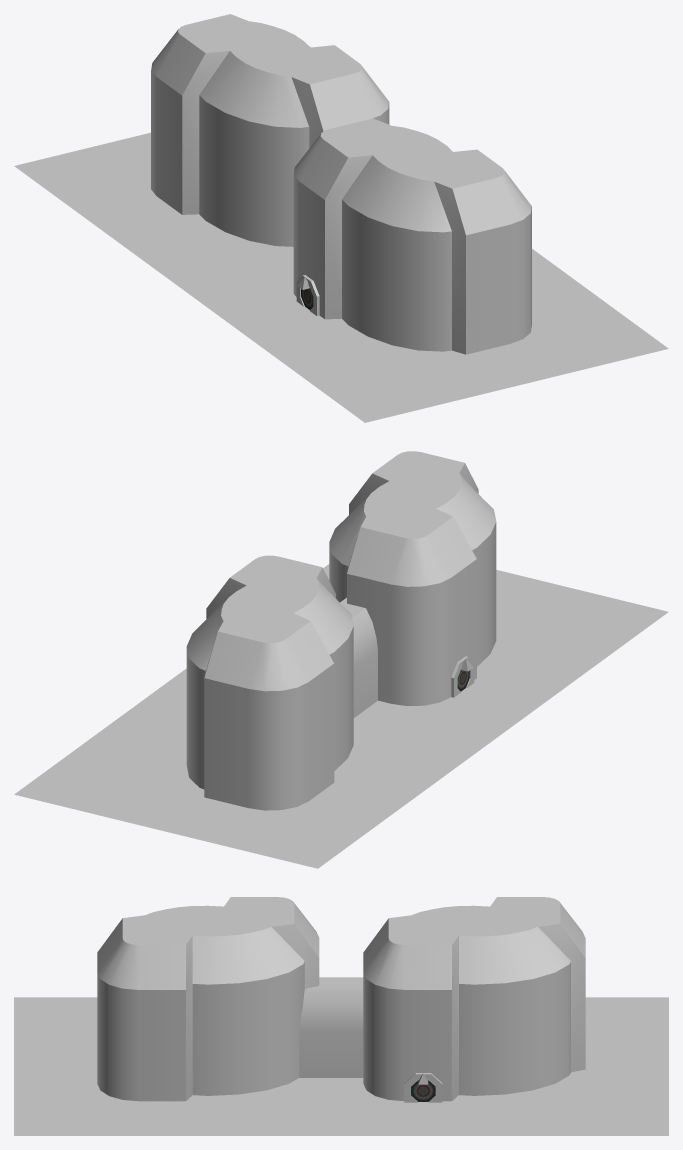
File: ibtcen00.FBX
3 views of the same model, one above another, from view 1: azimuth 30°, elevation 25°; view 2: azimuth 150°, elevation 25°; view 3: azimuth 270°, elevation 25° (orthographic). The views are drawn at different scales.
Parts seen in each view (by area): view 1: tcen, terrain; view 2: tcen, terrain; view 3: tcen, terrain, door.
Part boxes in pixels (<box>): tcen: <box>151,14,531,354</box>; terrain: <box>14,132,668,422</box>; tcen: <box>186,451,496,810</box>; terrain: <box>14,564,668,868</box>; tcen: <box>97,897,585,1102</box>; terrain: <box>14,997,668,1135</box>; door: <box>411,1080,435,1101</box>.
Bounding box in the file's own units: 32 × 15.84 × 64.
